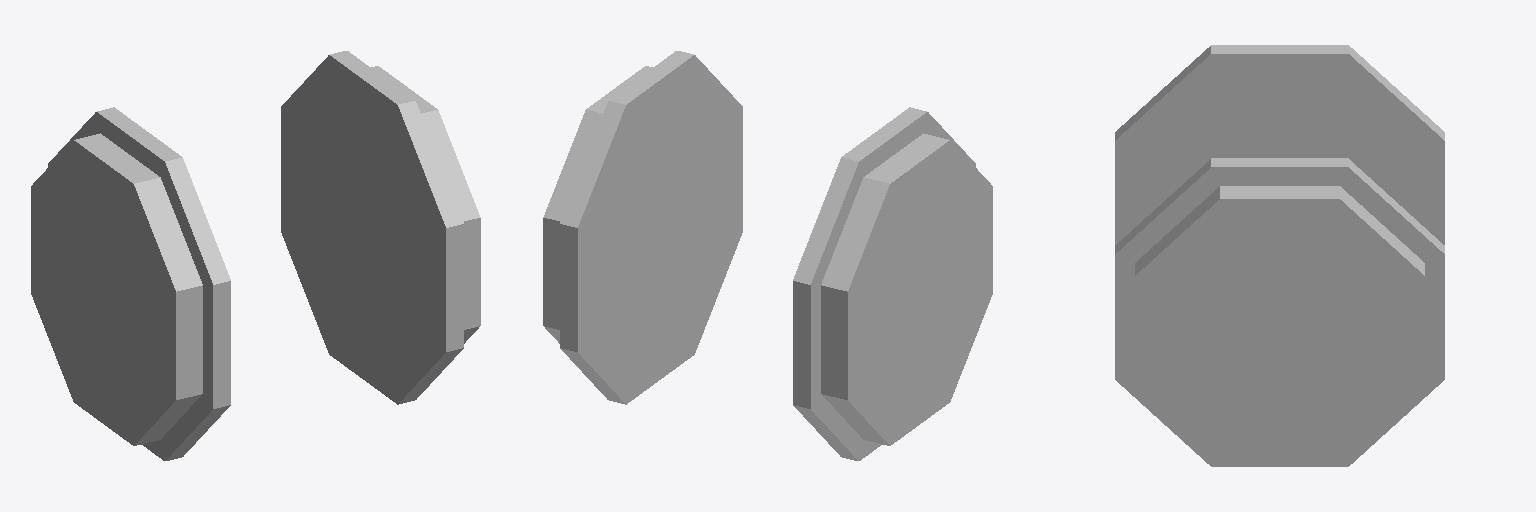
File: wheels_create.obj
3 views of the same model, side by side, from view 1: azimuth 30°, elevation 25°; view 2: azimuth 150°, elevation 25°; view 3: azimuth 270°, elevation 25° (orthographic).
Parts seen in each view (by area): view 1: 32x32_Cube.007; view 2: 32x32_Cube.007; view 3: 32x32_Cube.007.
Boxes of the visible parts, box(x1,y1,x2,y2) form: 32x32_Cube.007: box(31, 51, 480, 460); 32x32_Cube.007: box(543, 51, 992, 460); 32x32_Cube.007: box(1115, 45, 1444, 466).
Bounding box in the file's own units: 2.12 × 2 × 2.